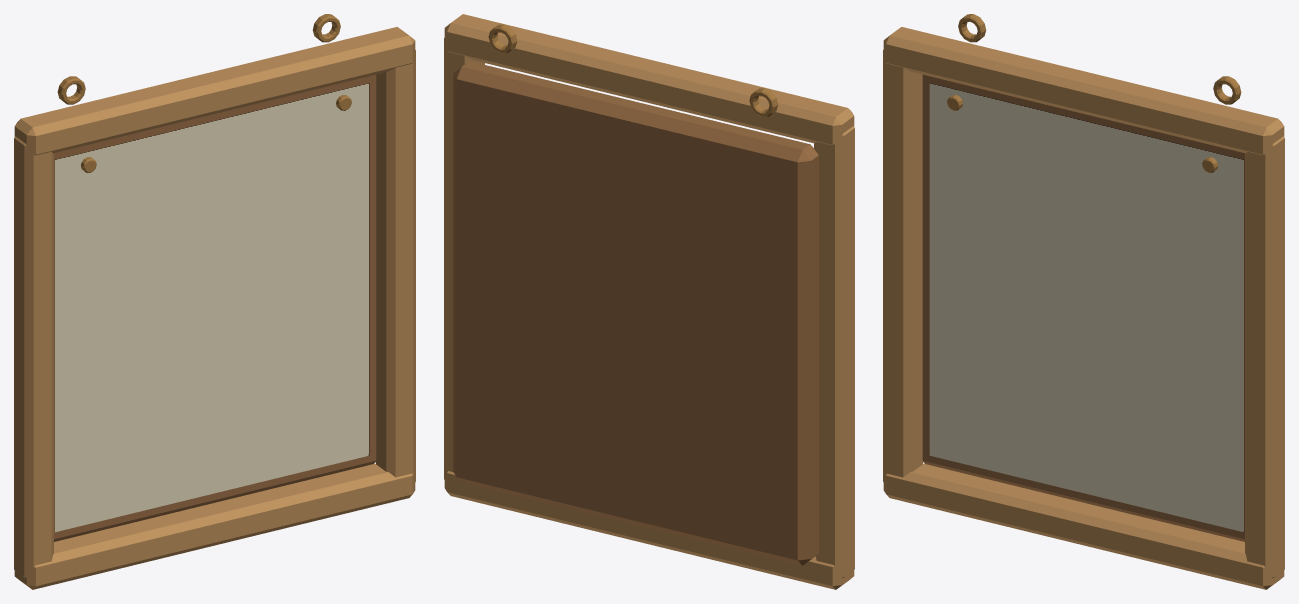
The model's file is JOB_BOARD.lo.glb.
3 views of the same model, side by side, from view 1: azimuth 30°, elevation 25°; view 2: azimuth 150°, elevation 25°; view 3: azimuth 330°, elevation 25° (orthographic). The views are drawn at different scales.
Visible parts, largest first — view 1: Body_Mesh; view 2: Body_Mesh; view 3: Body_Mesh.
Boxes of the visible parts, x1,y1,x2,y2 form: Body_Mesh: (14, 14, 415, 589); Body_Mesh: (444, 14, 854, 589); Body_Mesh: (883, 14, 1284, 589).
Size of the model in its own units: 1.32 by 1.55 by 0.182.
Materials: 1 (1 with a texture image).
